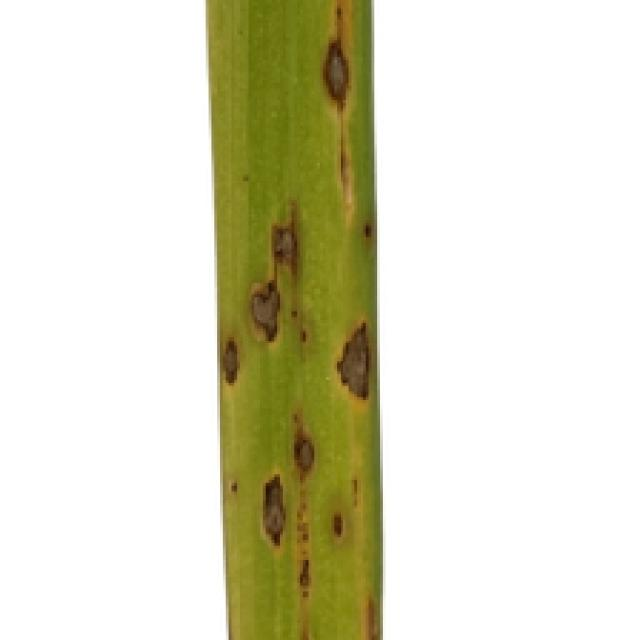Rice___Rice_Blast: (203, 0, 384, 637)
